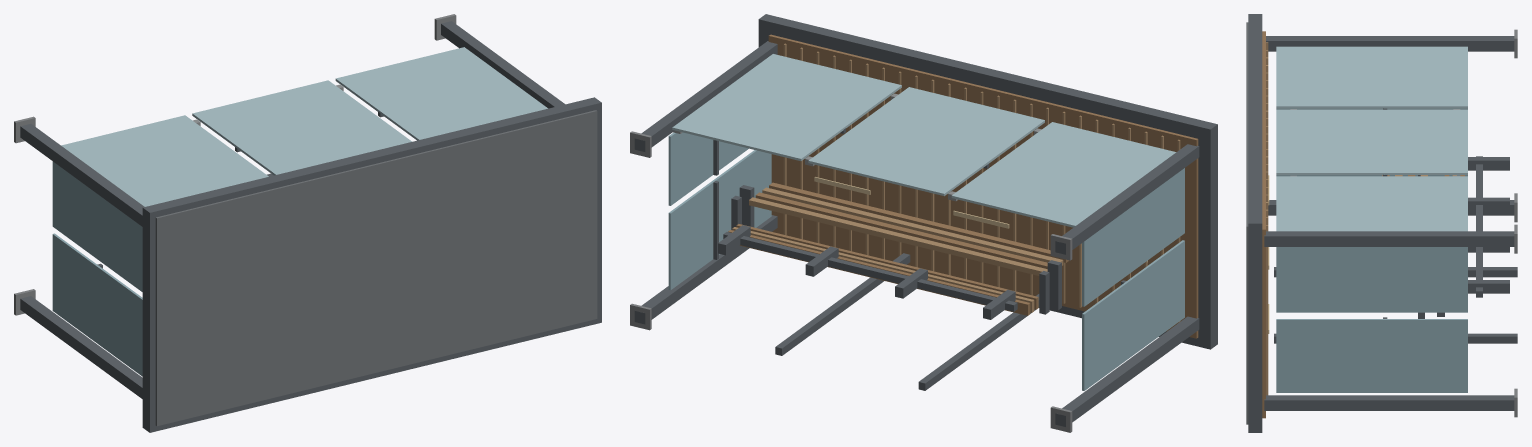
Rendered from bus_shelter.glb.
The picture shows the model from 3 angles, left to right: view 1: azimuth 30°, elevation 25°; view 2: azimuth 150°, elevation 25°; view 3: azimuth 270°, elevation 25°; orthographic projection. The views are drawn at different scales.
Visible parts, largest first — view 1: Canopy top surface, Flat canopy roof, Rear glass panel 1, Rear glass panel 2, Rear glass panel 0, Side glass -1 0, Side glass -1 1, Frame post -2.35 0.92, Frame post -2.35 -0.92, Frame post 2.35 0.92; view 2: Canopy wood soffit, Rear glass panel 1, Flat canopy roof, Rear glass panel 2, Rear glass panel 0, Side glass -1 0, Side glass -1 1, Side glass 1 0, Side glass 1 1, Frame post -2.35 0.92, Frame post -2.35 -0.92, Bench back slat 0 (+12 smaller); view 3: Side glass 1 0, Rear glass panel 1, Side glass 1 1, Rear glass panel 0, Rear glass panel 2, Flat canopy roof, Frame post 2.35 -0.92, Frame post 2.35 0.92, Frame post -2.35 0.92, Canopy wood soffit, Canopy top surface, Bench front rail (+9 smaller).
Part boxes in pixels (box(x1,y1,x2,y2)): Canopy top surface: box(155, 110, 597, 426); Flat canopy roof: box(142, 97, 601, 432); Rear glass panel 1: box(192, 80, 411, 175); Rear glass panel 2: box(335, 47, 547, 140); Rear glass panel 0: box(61, 115, 268, 206); Side glass -1 0: box(52, 233, 142, 376); Side glass -1 1: box(52, 161, 142, 291); Frame post -2.35 0.92: box(20, 124, 144, 226); Frame post -2.35 -0.92: box(20, 296, 142, 398); Frame post 2.35 0.92: box(441, 21, 565, 108); Canopy wood soffit: box(768, 34, 1198, 338); Rear glass panel 1: box(808, 87, 1044, 196); Flat canopy roof: box(758, 14, 1217, 349); Rear glass panel 2: box(672, 54, 901, 160); Rear glass panel 0: box(951, 122, 1176, 227); Side glass -1 0: box(1082, 240, 1184, 390); Side glass -1 1: box(1082, 168, 1184, 306); Side glass 1 0: box(668, 150, 771, 290); Side glass 1 1: box(668, 132, 748, 205); Frame post -2.35 0.92: box(1055, 144, 1199, 254); Frame post -2.35 -0.92: box(1055, 316, 1199, 426); Bench back slat 0: box(749, 197, 1047, 275); Side glass 1 0: box(1276, 319, 1467, 392); Rear glass panel 1: box(1276, 109, 1467, 174); Side glass 1 1: box(1276, 247, 1467, 312); Rear glass panel 0: box(1276, 46, 1467, 108); Rear glass panel 2: box(1276, 176, 1467, 231); Flat canopy roof: box(1248, 14, 1262, 432); Frame post 2.35 -0.92: box(1264, 395, 1514, 410); Frame post 2.35 0.92: box(1264, 231, 1514, 246); Frame post -2.35 0.92: box(1266, 36, 1514, 51); Canopy wood soffit: box(1262, 31, 1265, 418); Canopy top surface: box(1246, 22, 1248, 424); Bench front rail: box(1476, 156, 1482, 297).
Size of the model in its own units: 5.05 by 2.35 by 2.76.
